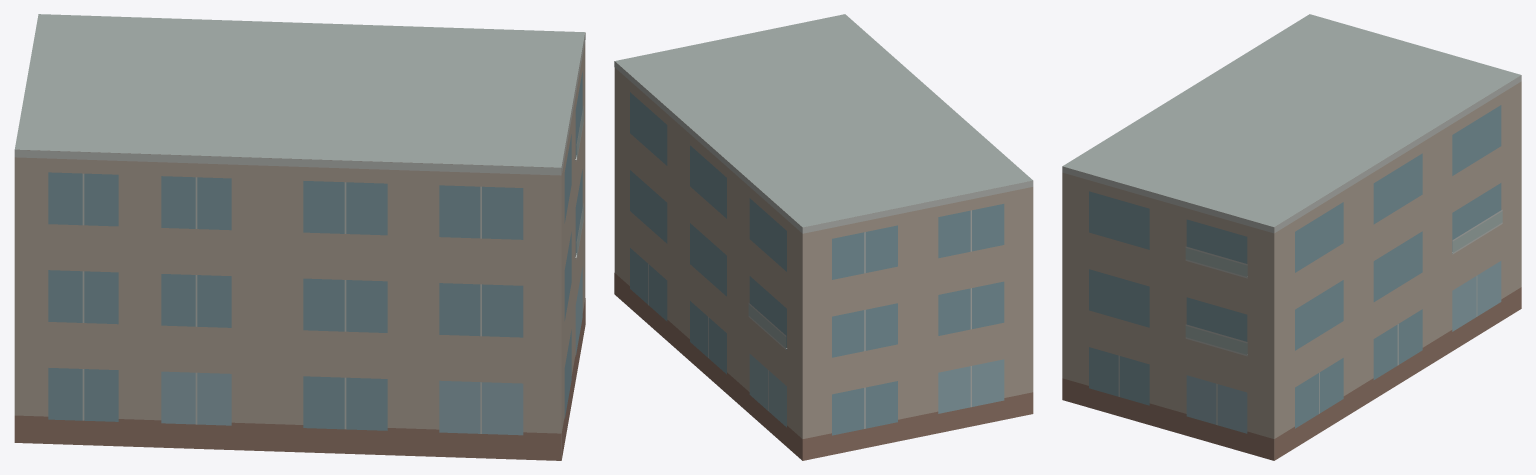
Rendered from survey-upis-32706682.glb.
The picture shows the model from 3 angles, left to right: view 1: azimuth 30°, elevation 25°; view 2: azimuth 150°, elevation 25°; view 3: azimuth 270°, elevation 25°; orthographic projection. The views are drawn at different scales.
Visible parts, largest first — view 1: survey-upis-32706682.tmp; view 2: survey-upis-32706682.tmp; view 3: survey-upis-32706682.tmp.
Boxes of the visible parts, <box> form: survey-upis-32706682.tmp: <box>14,14,585,460</box>; survey-upis-32706682.tmp: <box>614,14,1033,460</box>; survey-upis-32706682.tmp: <box>1062,14,1521,460</box>.
Size of the model in its own units: 17.92 by 9.15 by 16.31.
